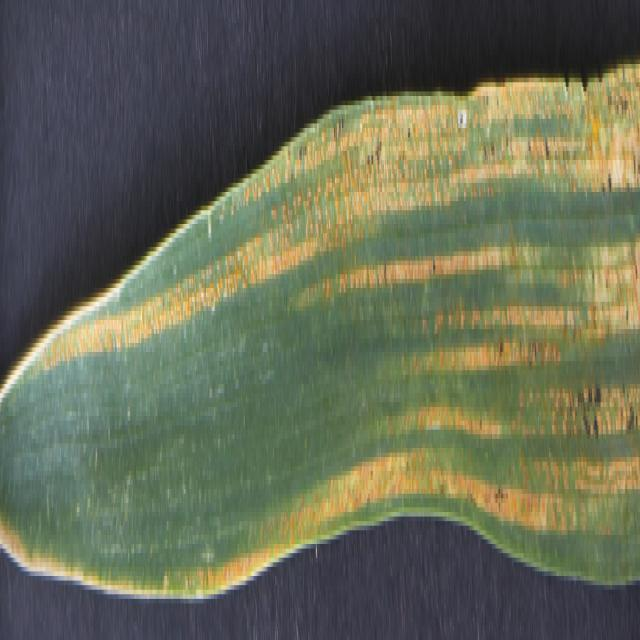leaf rust: (58, 69, 639, 572)
